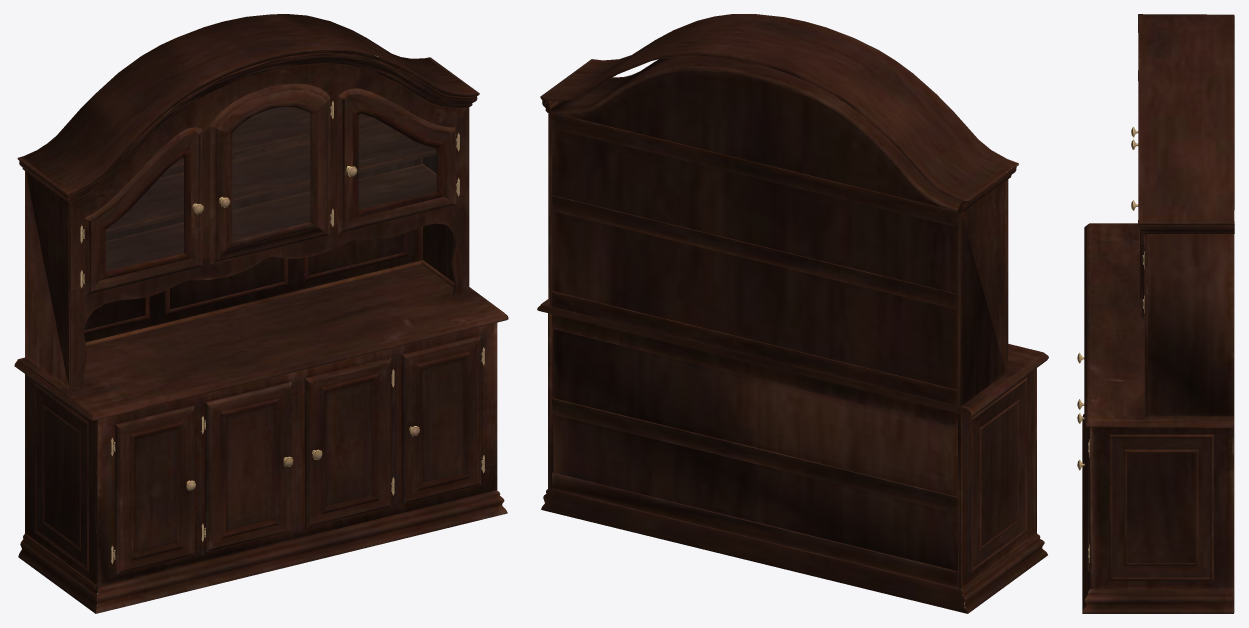
Rendered from vintage_cabinet_01.glb.
3 renders of one model, left to right at view 1: azimuth 30°, elevation 25°; view 2: azimuth 150°, elevation 25°; view 3: azimuth 270°, elevation 25°, orthographic. The views are drawn at different scales.
Parts seen in each view (by area): view 1: vintage_cabinet_01_body, vintage_cabinet_01_door_03, vintage_cabinet_01_door_01, vintage_cabinet_01_door_04, vintage_cabinet_01_door_06, vintage_cabinet_01_door_07, vintage_cabinet_01_door_02, vintage_cabinet_01_door_05; view 2: vintage_cabinet_01_body; view 3: vintage_cabinet_01_body, vintage_cabinet_01_door_02, vintage_cabinet_01_door_04.
Boxes of the visible parts, <box> form: vintage_cabinet_01_body: <box>14,14,508,613</box>; vintage_cabinet_01_door_03: <box>210,83,332,264</box>; vintage_cabinet_01_door_01: <box>83,127,203,295</box>; vintage_cabinet_01_door_04: <box>338,88,457,233</box>; vintage_cabinet_01_door_06: <box>204,381,293,552</box>; vintage_cabinet_01_door_07: <box>305,357,392,528</box>; vintage_cabinet_01_door_02: <box>402,335,483,504</box>; vintage_cabinet_01_door_05: <box>114,405,195,574</box>; vintage_cabinet_01_body: <box>537,14,1048,613</box>; vintage_cabinet_01_body: <box>1082,14,1234,613</box>; vintage_cabinet_01_door_02: <box>1077,426,1089,571</box>; vintage_cabinet_01_door_04: <box>1131,200,1144,319</box>.
Size of the model in its own units: 2.02 by 2.24 by 0.6706.
Materials: 3 (2 with a texture image).
